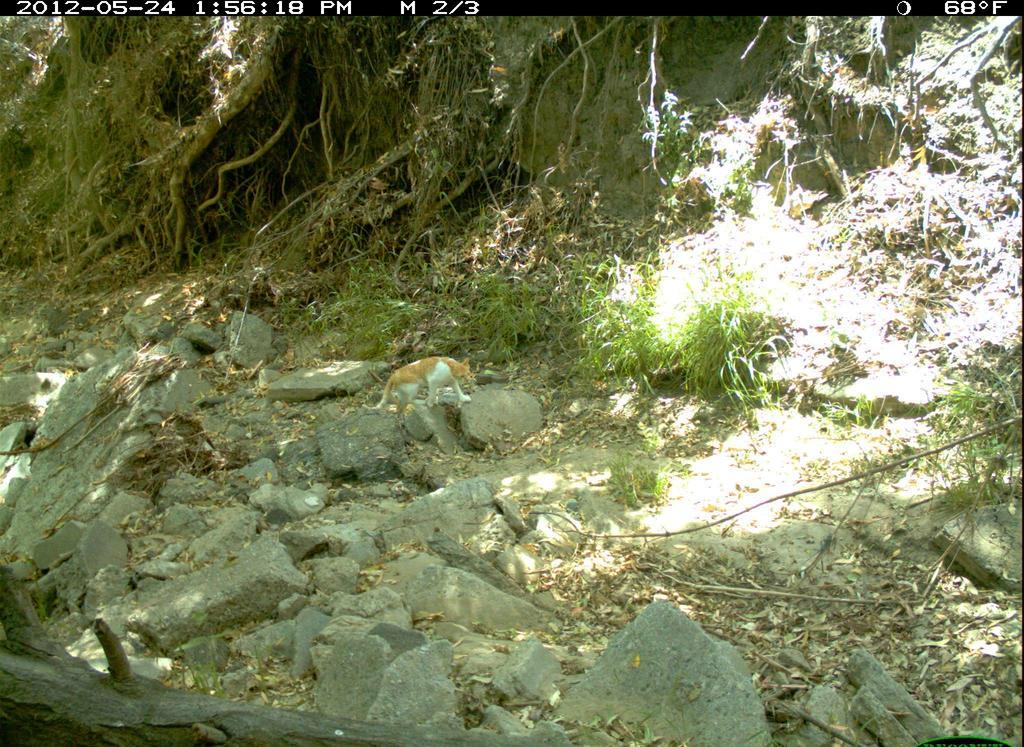cat: (363, 347, 486, 424)
